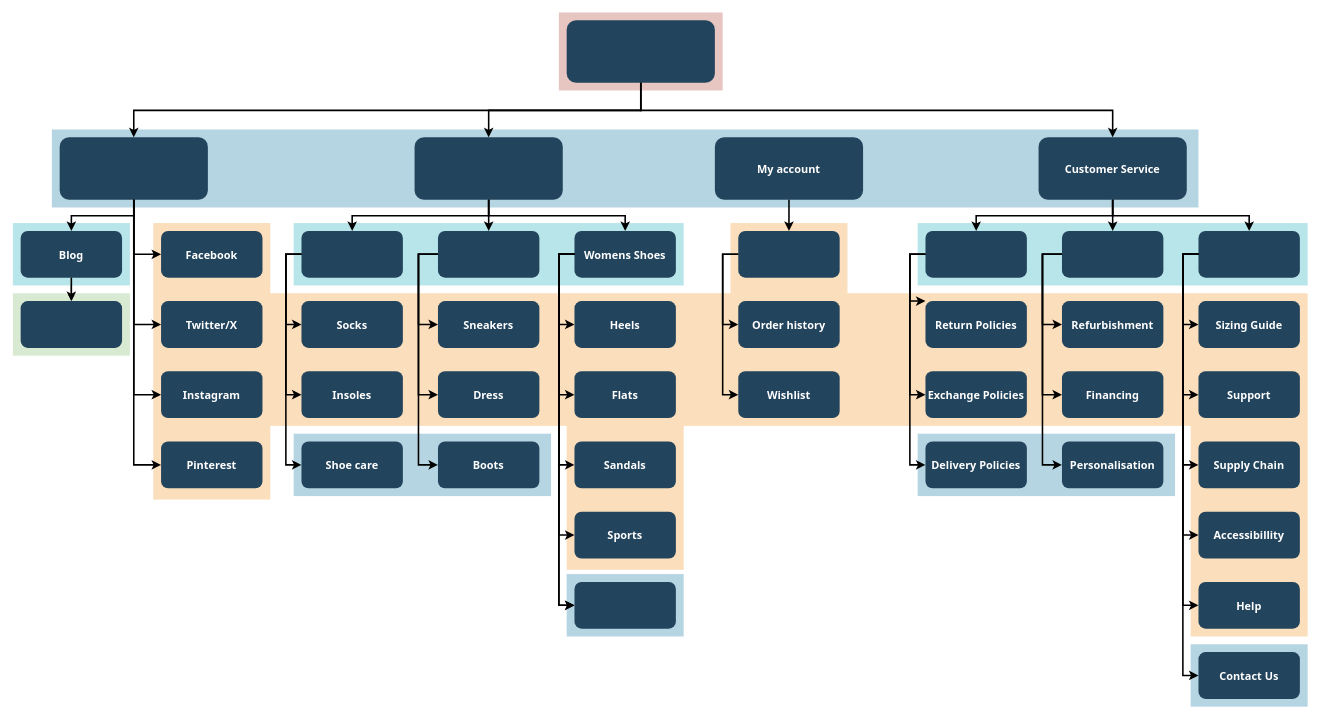
The diagram is 1321 pixels wide and 719 high, and some of its shapes have lost their labels. The shapes that lost their labels are listed below. From the top down, each one's box as (x1, y1, x2, y2) in pixels, then its label:
(566, 20, 714, 82): TipToe Soles
(59, 137, 207, 199): Social Media
(414, 137, 562, 199): Shop
(301, 230, 402, 277): Accesories
(438, 230, 539, 277): Men Shoes
(738, 230, 839, 277): Login / register
(925, 230, 1026, 277): Shipping & Returns
(1062, 230, 1163, 277): Services
(1198, 230, 1299, 277): FAQ
(20, 301, 122, 347): About us
(574, 581, 675, 628): Data Collection
